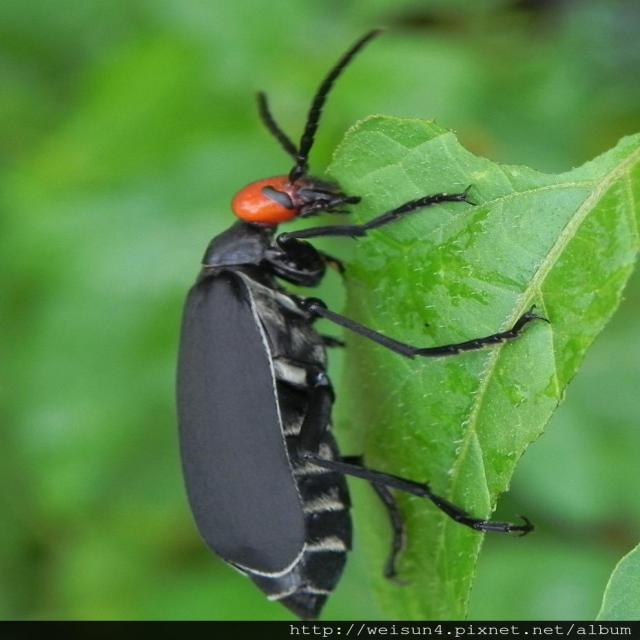BlisterBeetle-Adult-: (146, 22, 544, 621)
